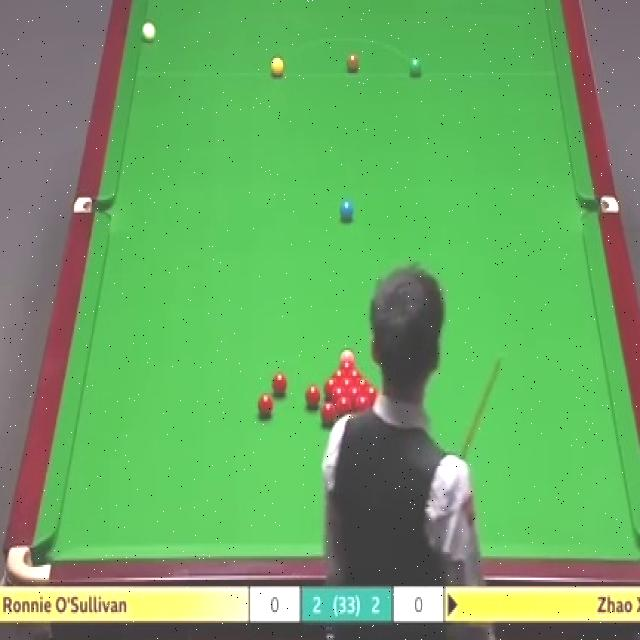blue-ball: (340, 201, 354, 219)
brown-ball: (346, 54, 359, 73)
green-ball: (408, 54, 423, 78)
pink-ball: (340, 350, 355, 365)
red-ball: (320, 400, 339, 424), (339, 394, 355, 418), (257, 393, 273, 417), (361, 385, 378, 407), (271, 372, 288, 394), (348, 386, 362, 408), (306, 385, 320, 407), (325, 377, 338, 390), (340, 362, 352, 375), (342, 378, 352, 391)
white-ball: (141, 22, 155, 43)
yellow-ball: (271, 56, 284, 78)
